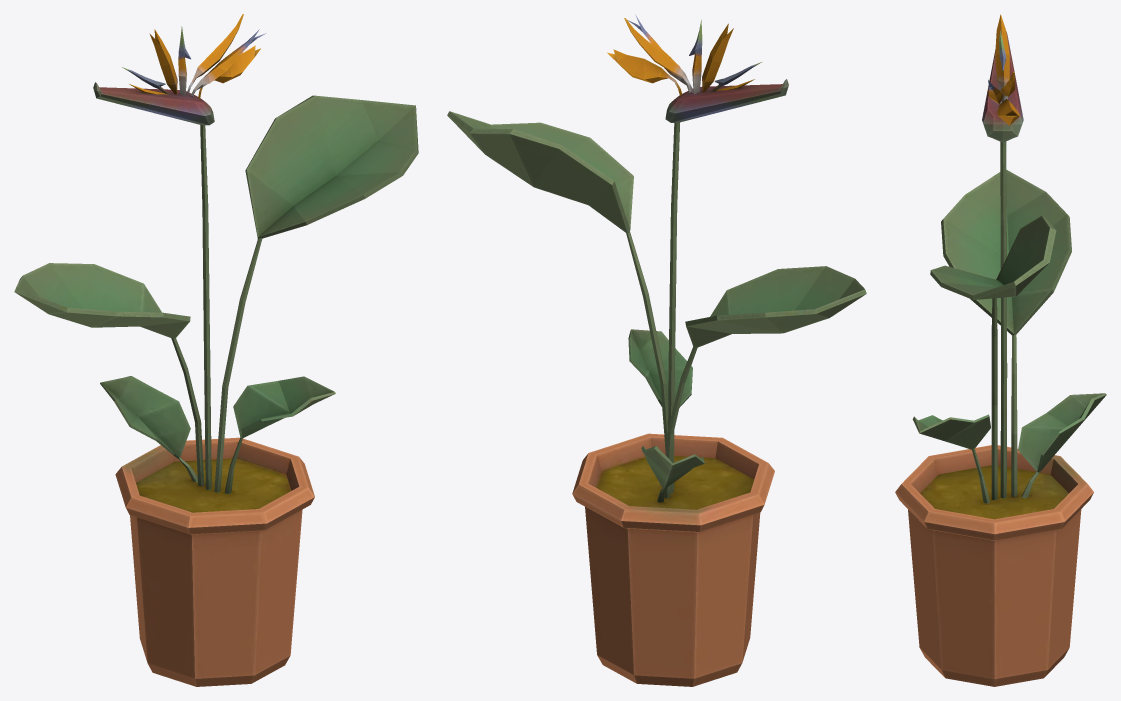
The model's file is birds_of_paradise-DAO_p6dY.glb.
3 views of the same model, side by side, from view 1: azimuth 30°, elevation 25°; view 2: azimuth 150°, elevation 25°; view 3: azimuth 270°, elevation 25° (orthographic). The views are drawn at different scales.
Visible parts, largest first — view 1: BirdsOfParadisePottedPlant_mesh; view 2: BirdsOfParadisePottedPlant_mesh; view 3: BirdsOfParadisePottedPlant_mesh.
Part boxes in pixels (<box>): BirdsOfParadisePottedPlant_mesh: <box>14,14,418,686</box>; BirdsOfParadisePottedPlant_mesh: <box>447,14,866,686</box>; BirdsOfParadisePottedPlant_mesh: <box>895,14,1106,686</box>.
Size of the model in its own units: 3.58 by 5.37 by 1.67.
Materials: 1 (1 with a texture image).
